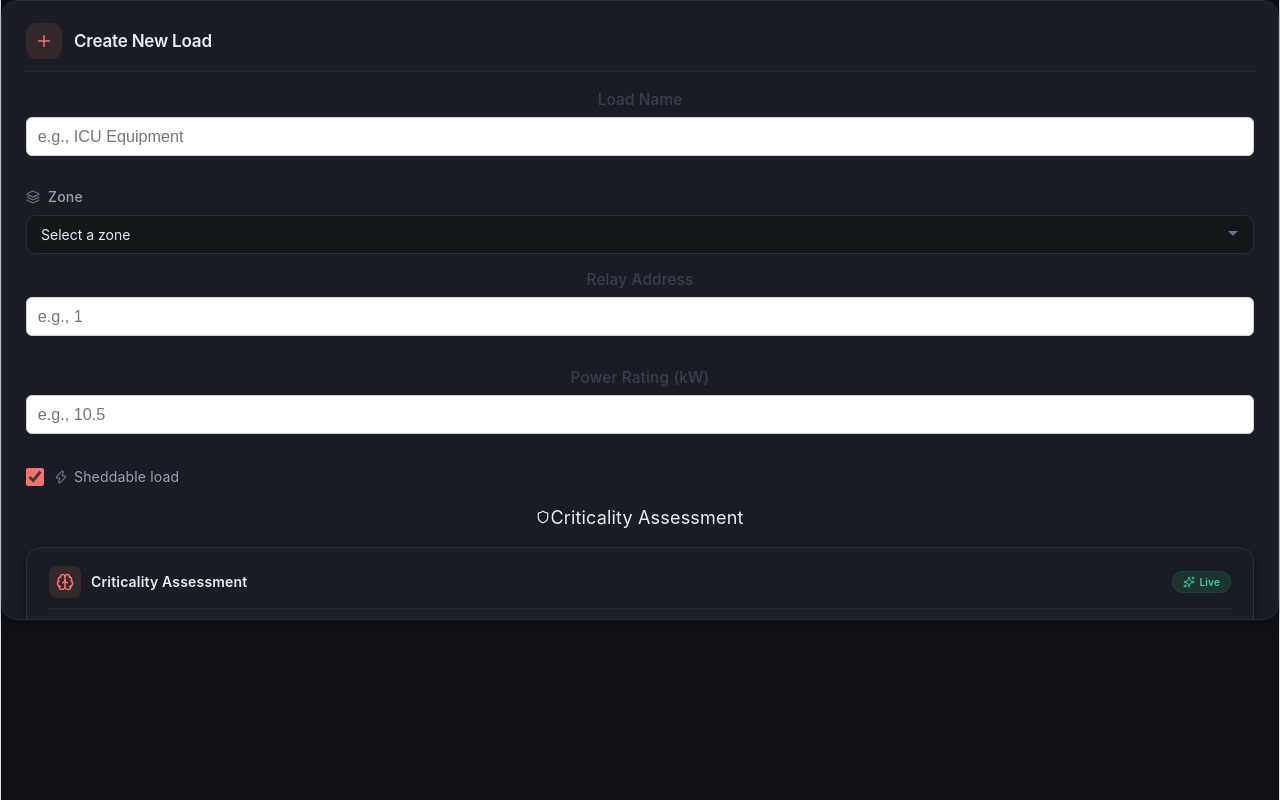
LoadForm error handling › renders a distinct override button on capacity conflict (409)
Type "New Load" into the field with test id "load-name" at [640, 136], box [26,117,1254,156]
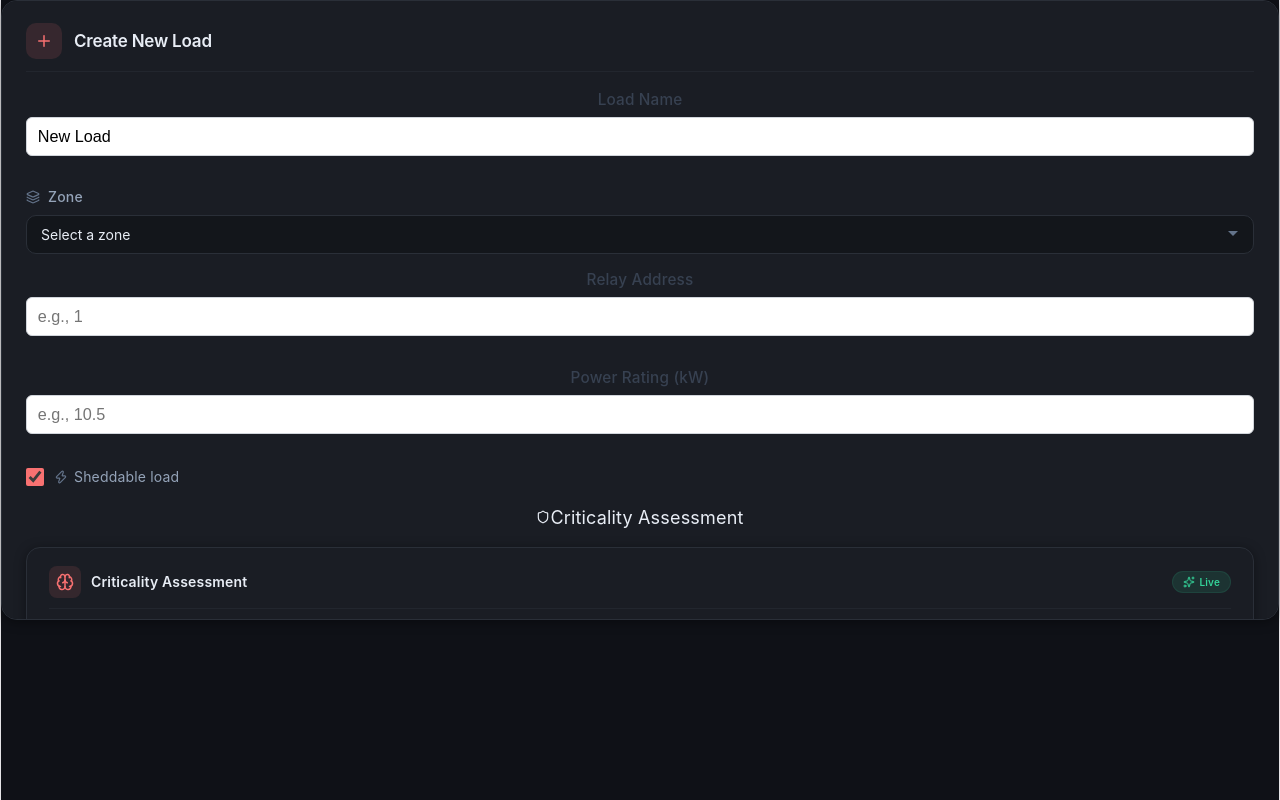
Select "Main Building" in the dropdown with test id "load-zone" at [640, 234], box [26,214,1254,254]
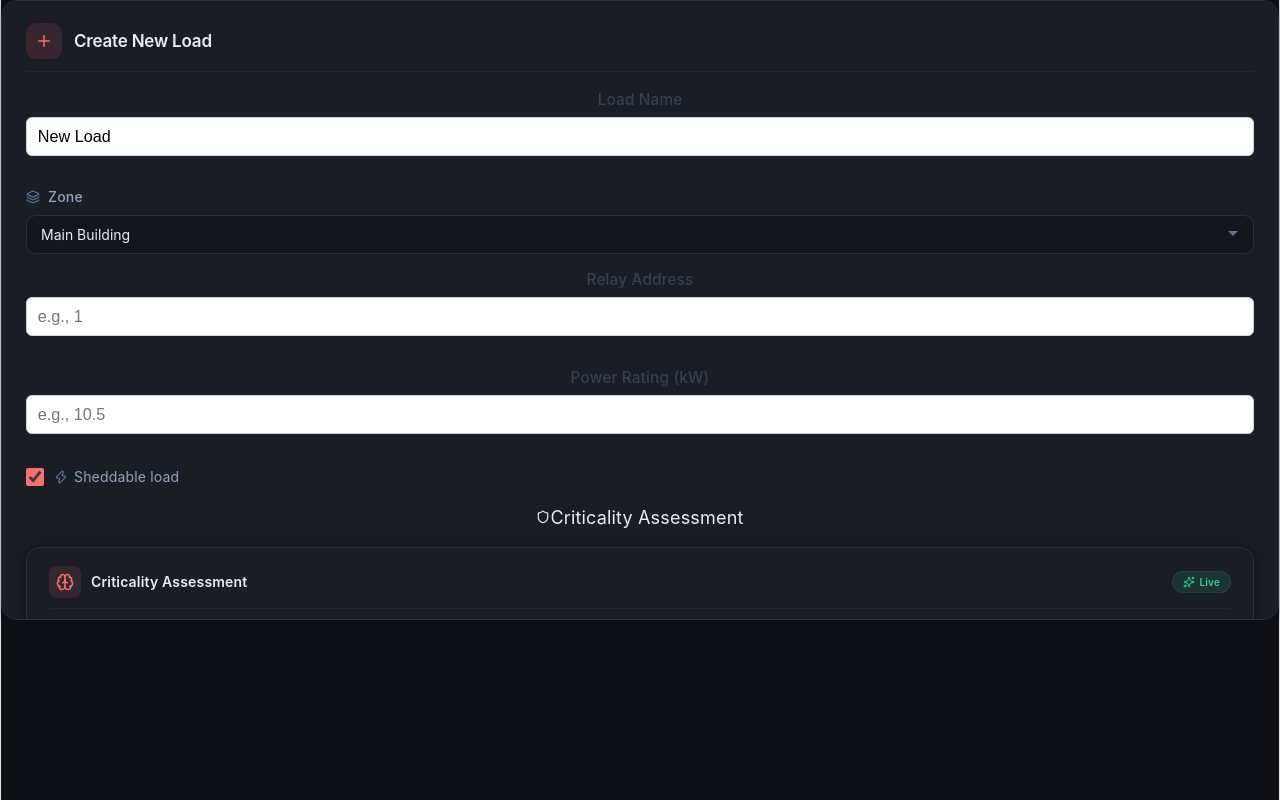
Type "3" into the number field with test id "load-relay-address" at [640, 316], box [26,296,1254,336]
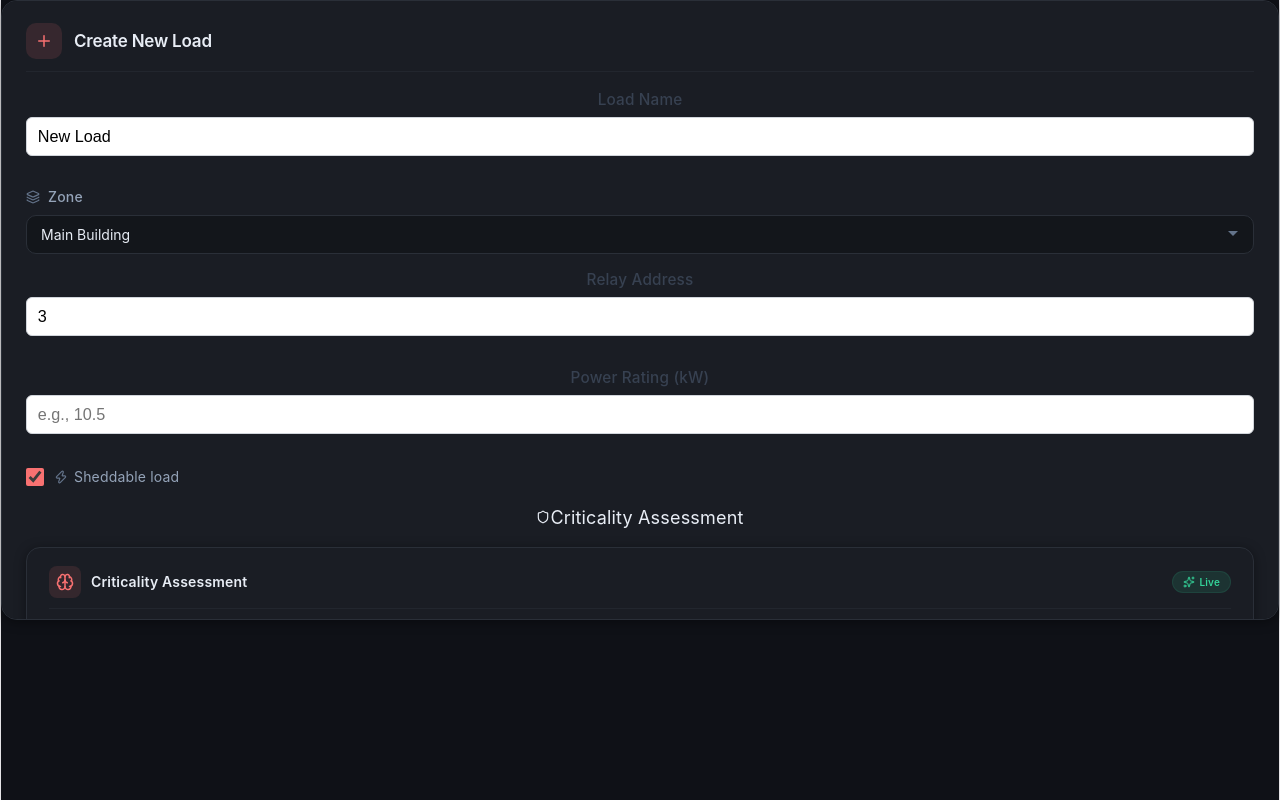
Type "50" into the number field with test id "load-power-rating" at [640, 414], box [26,395,1254,434]
(page scrolled)
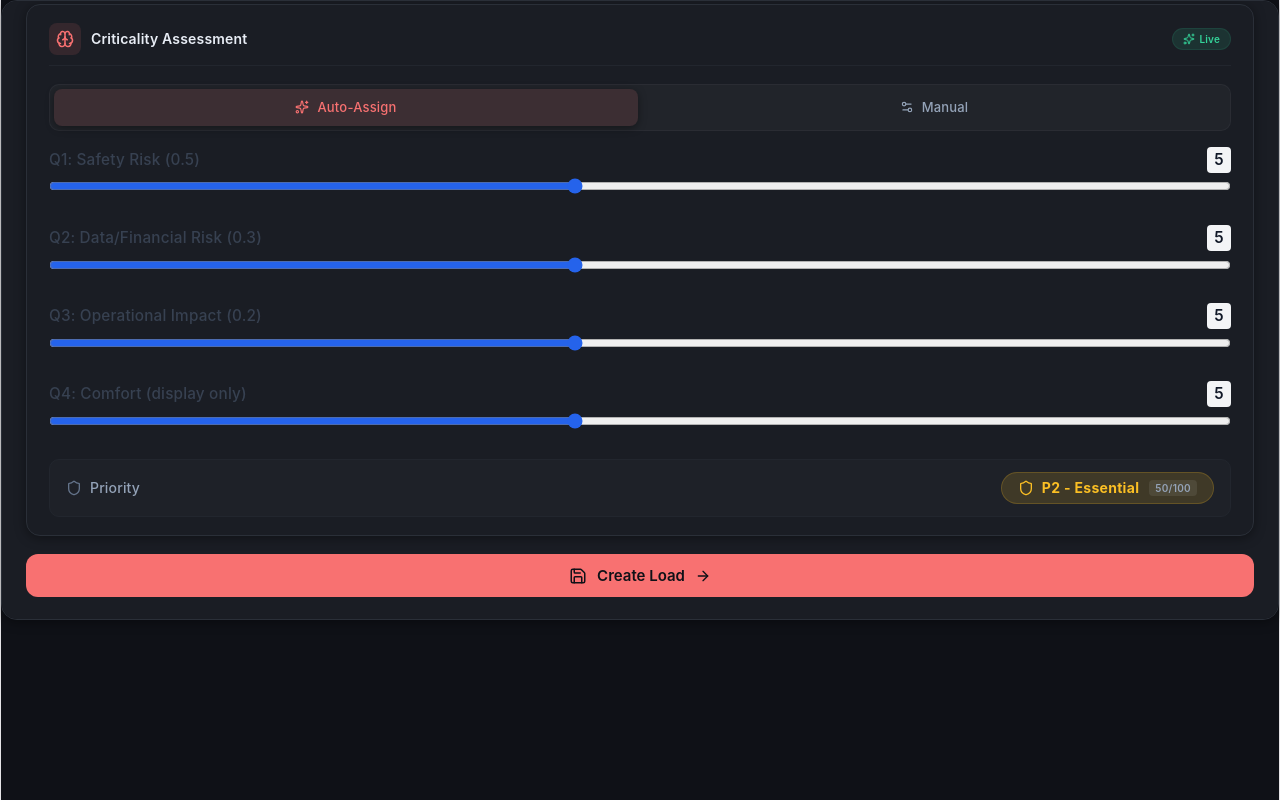
Click the button with test id "save-button" at [640, 576], box [26,554,1254,597]
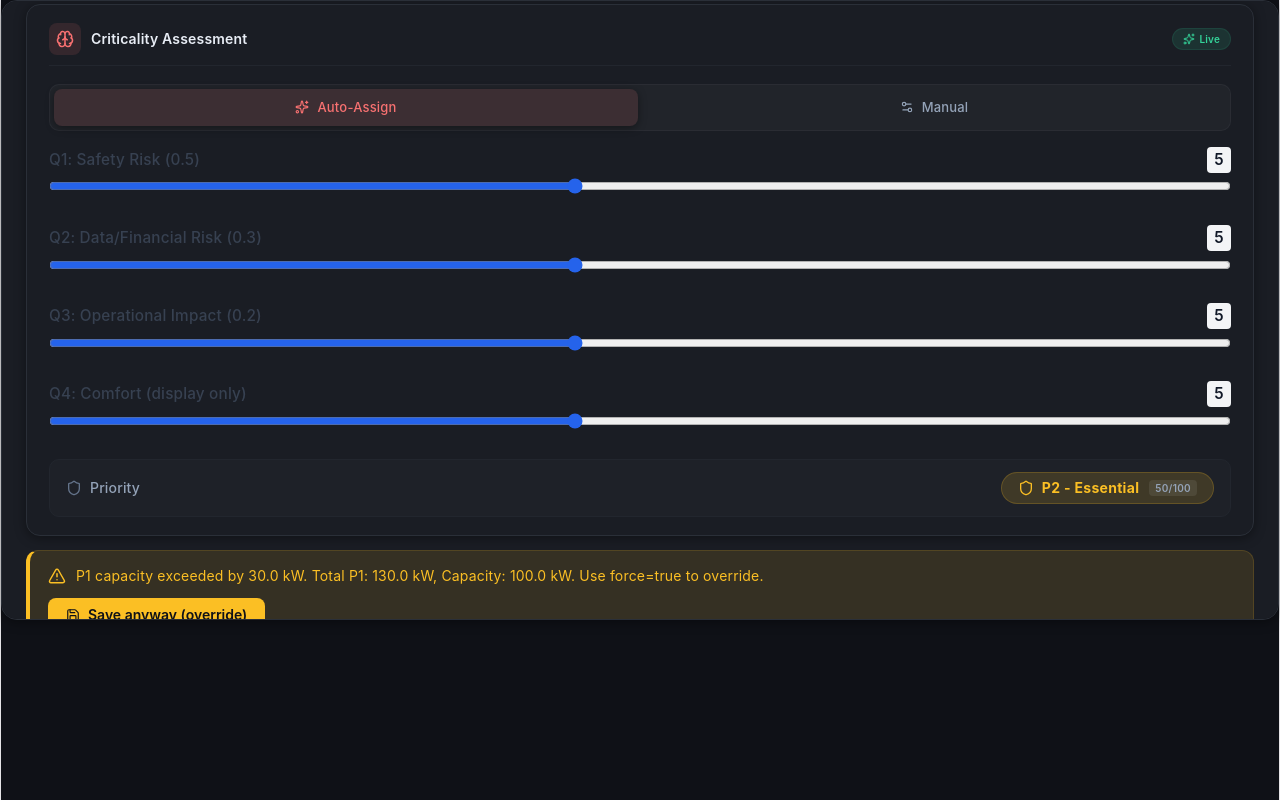
Check: the message with test id "capacity-error" is shown, box [26,550,1254,620]
Check: the text "30.0 kW" is shown, box [76,567,764,584]
Check: the button with test id "override-button" reads "Save anyway (override)", box [48,598,265,620]
